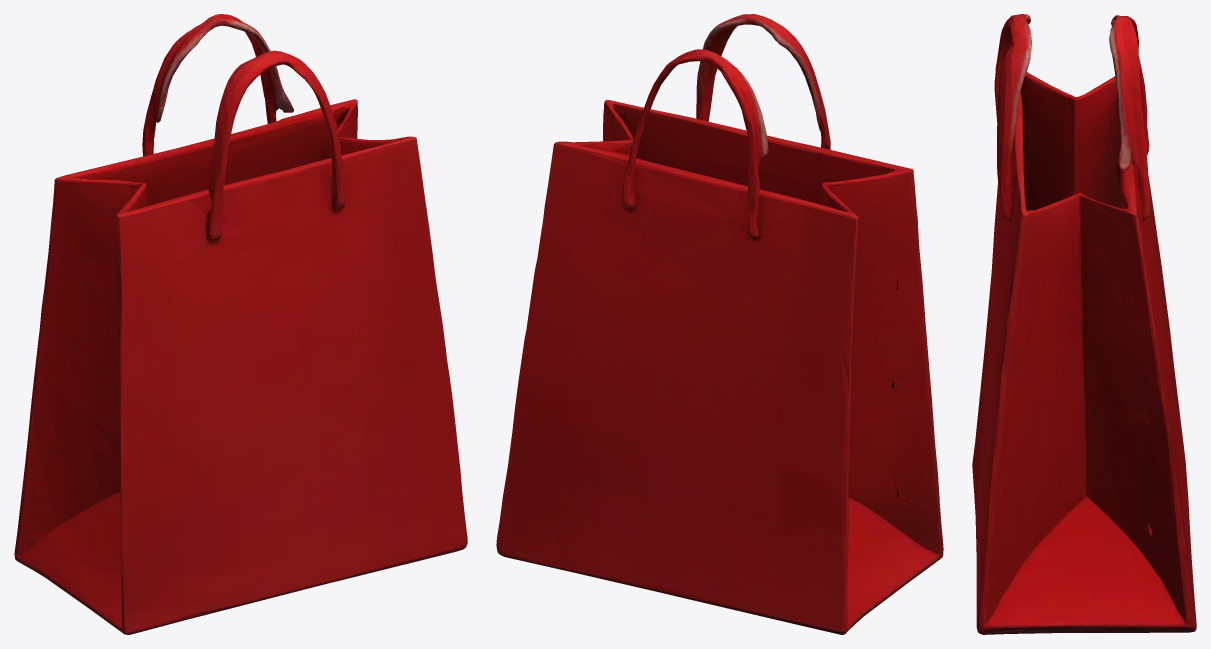
3 views of the same model, side by side, from view 1: azimuth 30°, elevation 25°; view 2: azimuth 150°, elevation 25°; view 3: azimuth 270°, elevation 25° (orthographic).
Parts seen in each view (by area): view 1: geometry_0; view 2: geometry_0; view 3: geometry_0.
Boxes of the visible parts, bbox=[...] form: geometry_0: bbox=[14, 14, 467, 634]; geometry_0: bbox=[496, 14, 943, 634]; geometry_0: bbox=[972, 14, 1196, 634].
Size of the model in its own units: 0.7044 by 0.9998 by 0.3831.
1 material, 1 textured.
